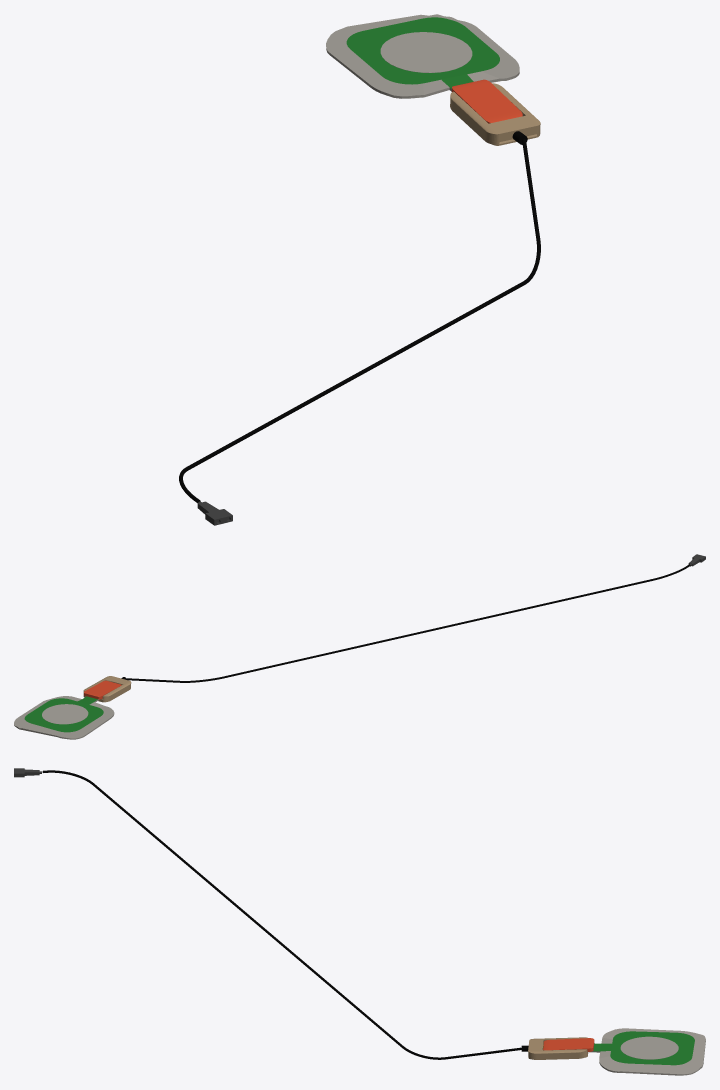
The model's file is ElectrodoReMom3.1.gltf.
The picture shows the model from 3 angles, top to bottom: view 1: azimuth 30°, elevation 25°; view 2: azimuth 150°, elevation 25°; view 3: azimuth 270°, elevation 25°; orthographic projection. The views are drawn at different scales.
Parts seen in each view (by area): view 1: Plane, Parte cable asegurador.004, Plane.004; view 2: Plane, Plane.004, Parte cable asegurador.004; view 3: Plane, Plane.004, Parte cable asegurador.004.
Part boxes in pixels (x1,y1,x2,y2): Plane: (326,14,519,98); Parte cable asegurador.004: (450,79,540,145); Plane.004: (179,139,540,503); Plane: (14,696,114,739); Plane.004: (126,564,690,682); Parte cable asegurador.004: (83,676,131,702); Plane: (542,1028,705,1075); Plane.004: (42,770,521,1059); Parte cable asegurador.004: (528,1037,594,1059).
Bounding box in the file's own units: 11.76 × 2.23 × 14.47.
